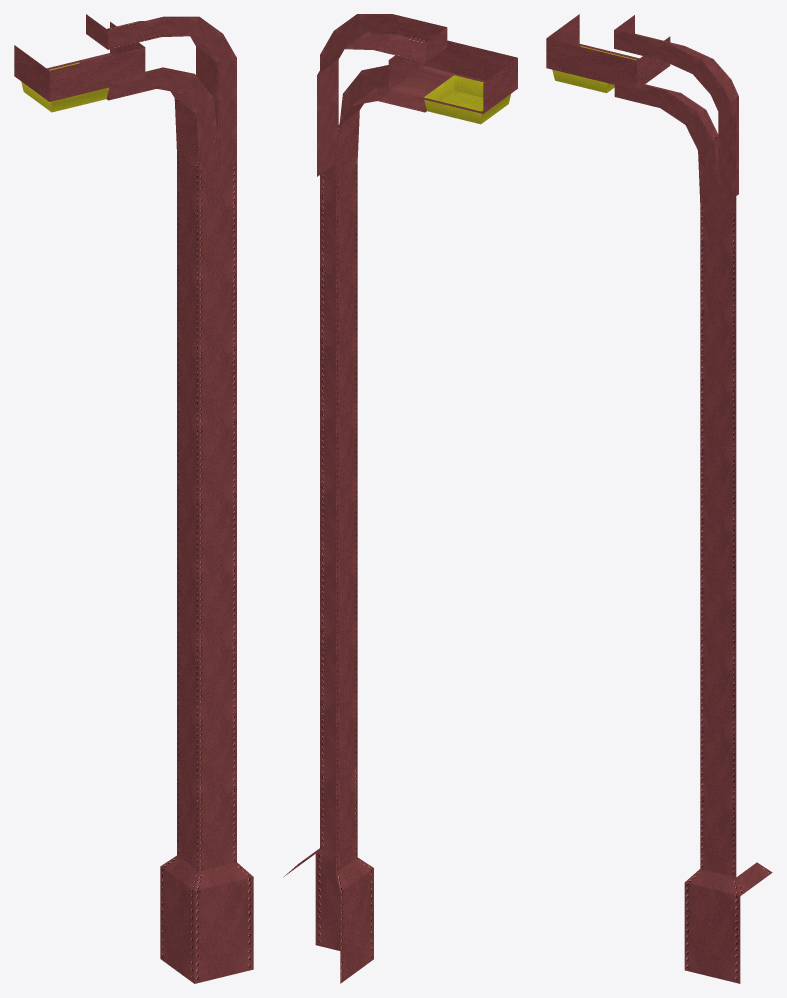
File: stage-sanf-p8-173.glb
3 views of the same model, side by side, from view 1: azimuth 30°, elevation 25°; view 2: azimuth 150°, elevation 25°; view 3: azimuth 330°, elevation 25° (orthographic). The views are drawn at different scales.
Size of the model in its own units: 3 by 13.6 by 0.8967.
2 materials, 2 textured.
